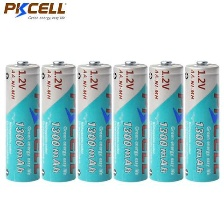battery: (145, 59, 186, 183), (109, 59, 150, 183), (180, 57, 220, 182), (2, 57, 42, 182), (74, 59, 113, 184), (38, 57, 76, 184)
